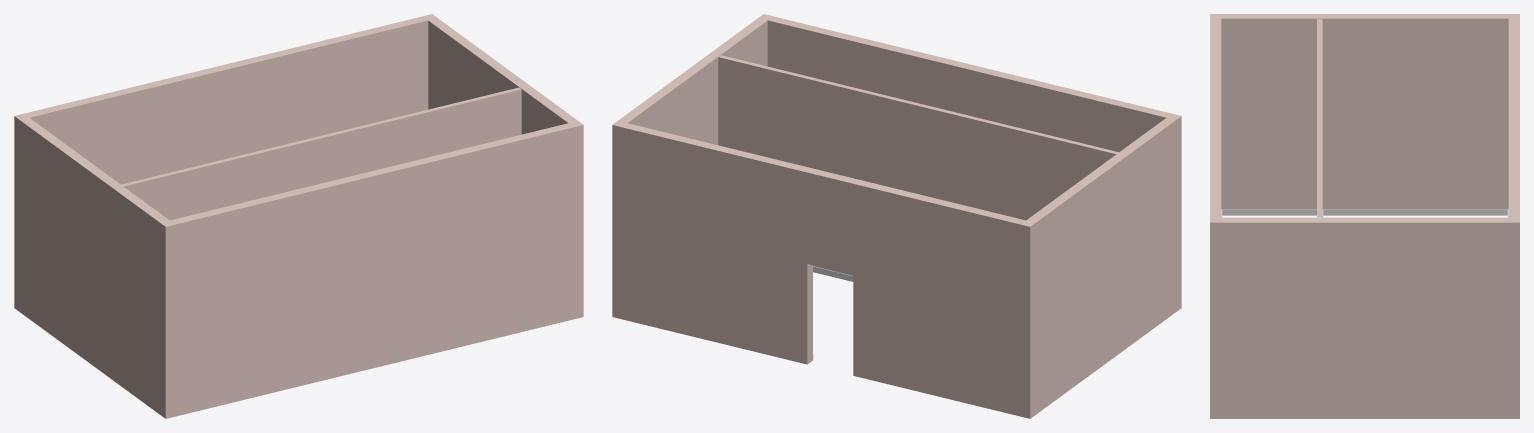
Rendered from registrarBuilding.fbx.
3 views of the same model, side by side, from view 1: azimuth 30°, elevation 25°; view 2: azimuth 150°, elevation 25°; view 3: azimuth 270°, elevation 25° (orthographic). The views are drawn at different scales.
Parts seen in each view (by area): view 1: Room, Room.001; view 2: Room, Room.001; view 3: Room, Baseboard.001, Room.001.
Boxes of the visible parts, bbox=[...] form: Room: bbox=[14, 14, 583, 418]; Room.001: bbox=[121, 87, 521, 220]; Room: bbox=[612, 14, 1181, 418]; Room.001: bbox=[718, 55, 1118, 275]; Room: bbox=[1210, 14, 1519, 418]; Baseboard.001: bbox=[1221, 209, 1508, 217]; Room.001: bbox=[1317, 19, 1322, 217].
Size of the model in its own units: 911 by 401 by 572.
